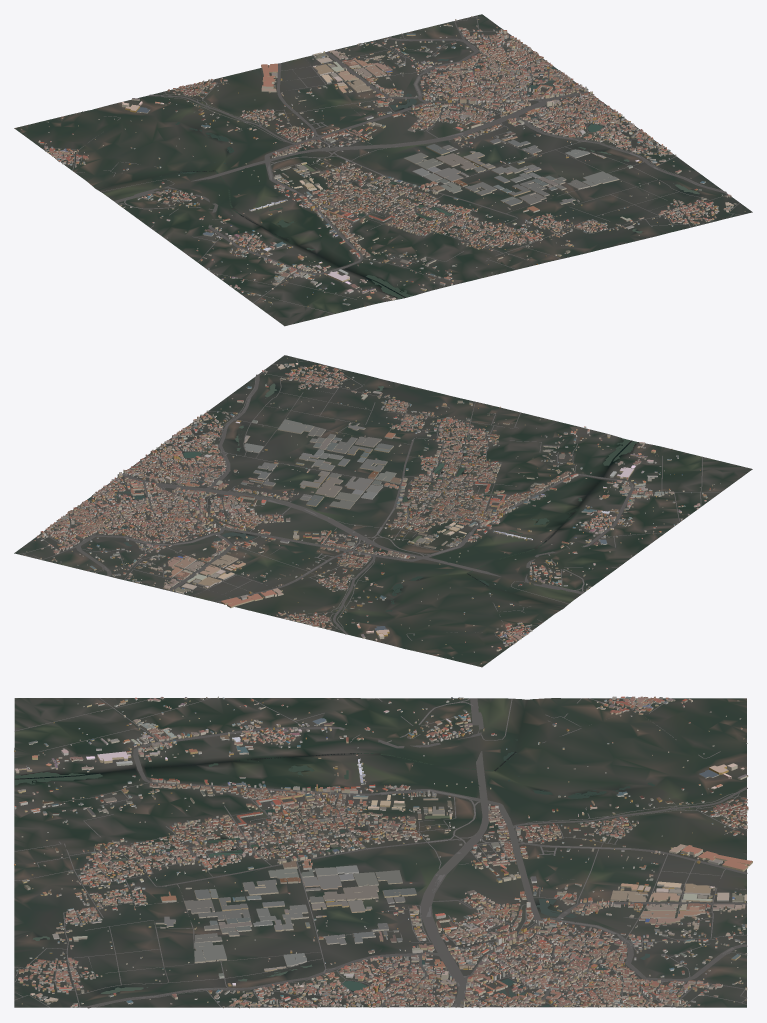
3 views of the same model, one above another, from view 1: azimuth 30°, elevation 25°; view 2: azimuth 150°, elevation 25°; view 3: azimuth 270°, elevation 25° (orthographic). The views are drawn at different scales.
Visible parts, largest first — view 1: ground, buildings, roads, water; view 2: ground, buildings, roads, water; view 3: ground, buildings, roads, water.
Part boxes in pixels (left/top/right/bottom): ground: left=14, top=14, right=752, bottom=326; buildings: left=21, top=16, right=745, bottom=306; roads: left=42, top=16, right=740, bottom=313; water: left=160, top=59, right=699, bottom=298; ground: left=14, top=355, right=752, bottom=667; buildings: left=24, top=357, right=720, bottom=664; roads: left=19, top=358, right=720, bottom=646; water: left=87, top=383, right=637, bottom=611; ground: left=14, top=698, right=746, bottom=1007; buildings: left=14, top=696, right=752, bottom=1008; roads: left=14, top=698, right=747, bottom=1008; water: left=14, top=739, right=654, bottom=1006.
Bounding box in the file's own units: 2812 × 35.73 × 2828.
